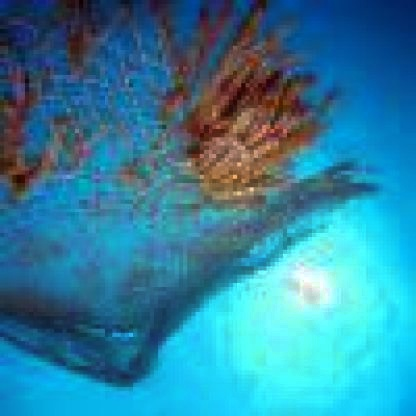net: (4, 4, 287, 383)
